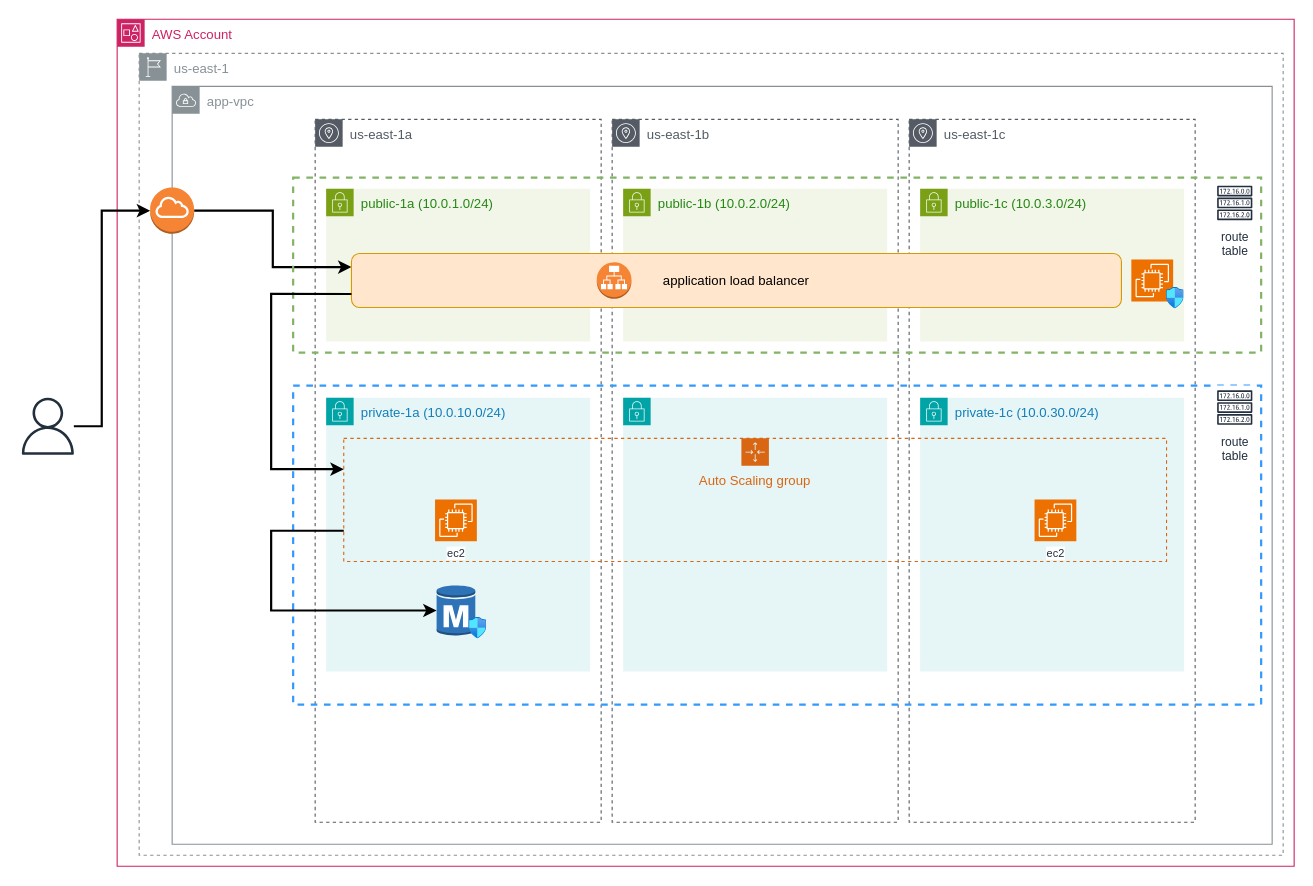
Some shapes in this 1313 by 886 pixel diagram are drawn without their labels. The centre of each missing label's shape, as x and y in pixels:
bastion host: the point at 1151,279
internet gateway: the point at 171,210
private-1b (10.0.20.0/24): the point at 754,534
rds: the point at 455,610
